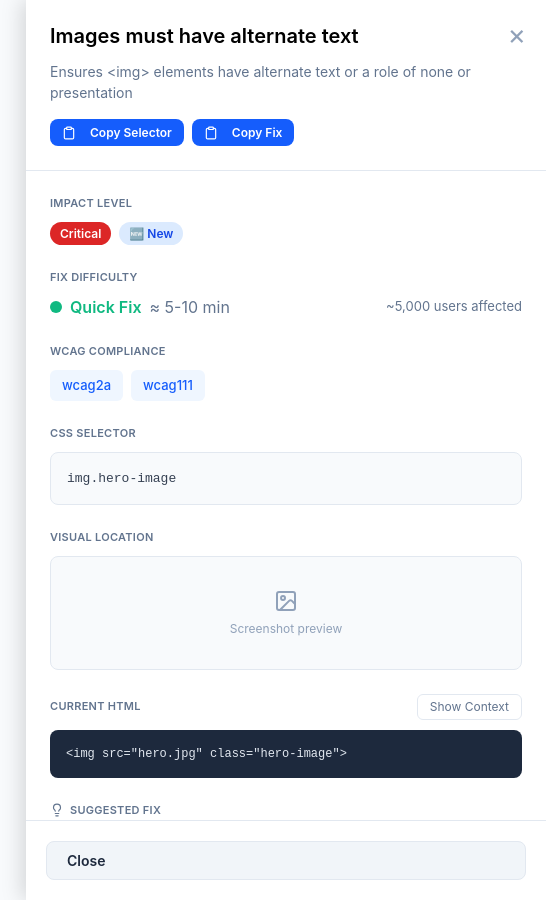
Scenario: components/findings/FindingDetails › FindingDetails › with fixSuggestion › shows Copied! state after copying fix
The image size is (546, 900).
Click the button "Copy Fix" at [243, 132], box [192, 119, 294, 146]
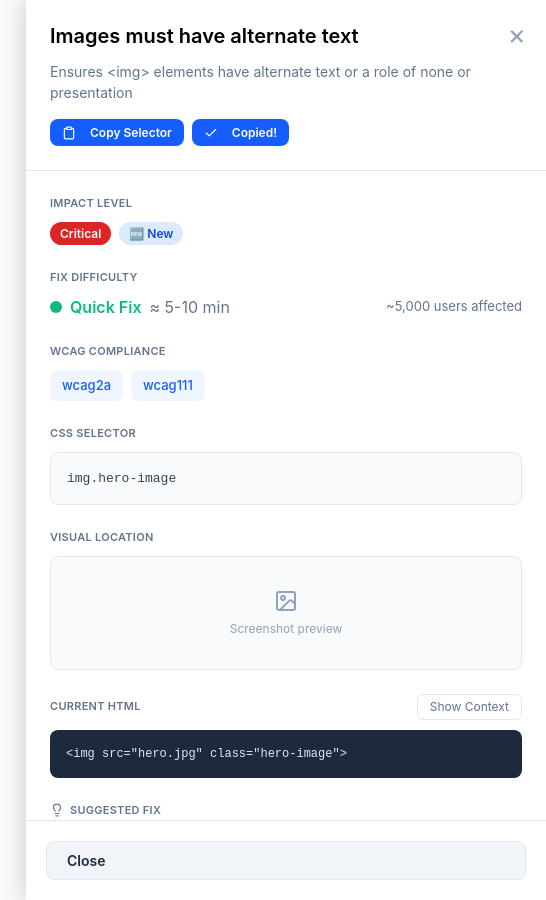
expect the button "Copied!" is shown: met, box [192, 119, 289, 146]
